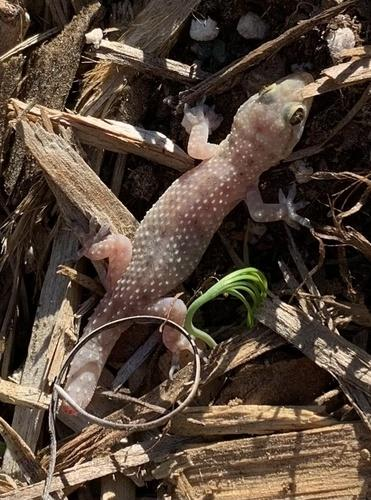lizard: (57, 71, 328, 411)
